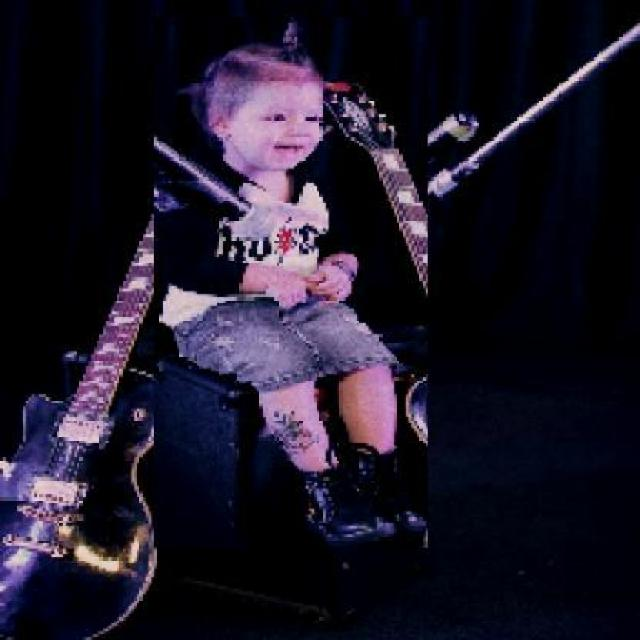child: (152, 17, 428, 549)
